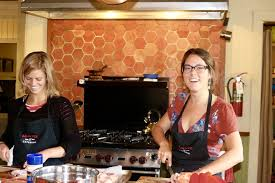Caution: (1, 48, 245, 182)
